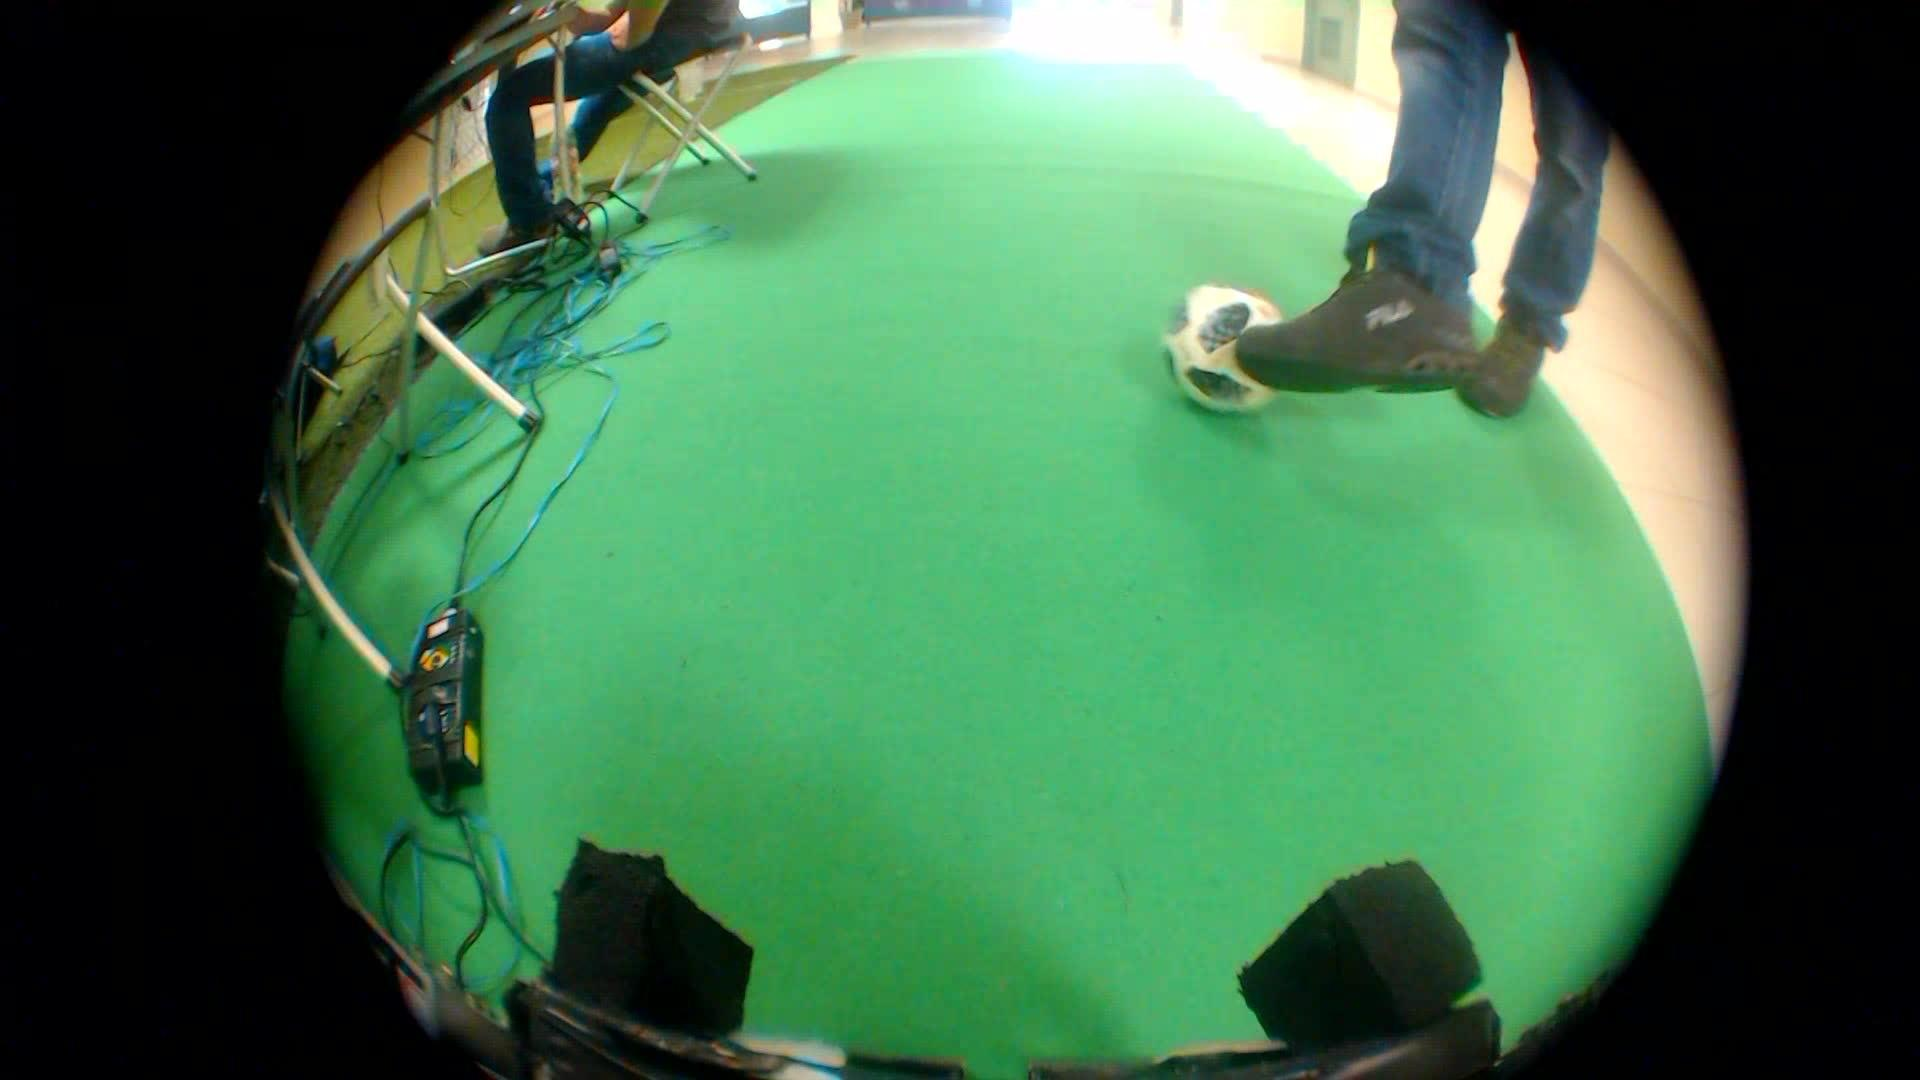ball: (1134, 262, 1302, 411)
